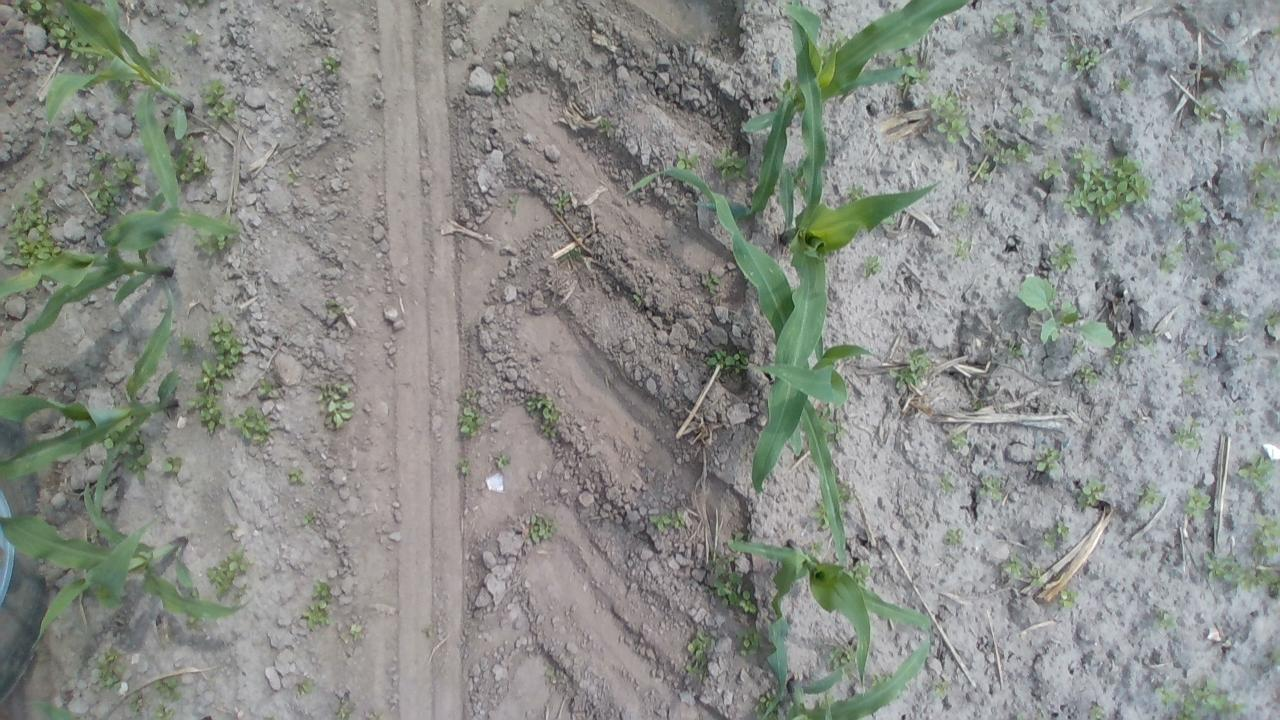Maize: (625, 167, 881, 565), (746, 15, 946, 498), (696, 0, 971, 226), (0, 189, 237, 392), (0, 480, 259, 655), (0, 276, 179, 526), (728, 533, 936, 708), (28, 0, 196, 208), (764, 627, 936, 720), (29, 700, 83, 718)
Weeds: (1015, 274, 1116, 348), (1062, 147, 1154, 223), (2, 174, 65, 269), (198, 318, 244, 394), (87, 153, 141, 217), (1204, 552, 1280, 592), (1178, 677, 1246, 720), (98, 430, 149, 481), (206, 549, 250, 596), (928, 92, 968, 142), (712, 571, 756, 614), (174, 138, 213, 184), (317, 382, 355, 428), (1240, 454, 1280, 495), (892, 349, 934, 388), (524, 393, 560, 438), (202, 80, 238, 124), (680, 631, 714, 677), (232, 406, 272, 443), (302, 580, 332, 629), (982, 136, 1034, 164), (194, 390, 227, 434), (1251, 513, 1280, 561), (712, 146, 749, 182), (818, 406, 851, 446), (891, 52, 929, 86), (93, 649, 123, 692), (44, 17, 76, 55), (1172, 192, 1206, 227), (458, 390, 482, 436), (130, 696, 174, 720), (1170, 415, 1200, 450), (142, 48, 172, 82), (1252, 188, 1280, 224), (829, 644, 860, 676), (193, 231, 234, 255), (1204, 308, 1244, 332), (708, 350, 747, 374), (1065, 44, 1098, 72), (649, 508, 687, 532), (1077, 478, 1106, 509), (1182, 491, 1212, 520), (1048, 242, 1077, 272), (528, 514, 556, 545), (15, 0, 58, 20), (1248, 158, 1280, 184), (736, 624, 761, 656), (68, 110, 94, 140), (1212, 238, 1238, 268), (1044, 520, 1070, 550), (1039, 154, 1063, 184), (837, 480, 861, 510), (156, 676, 182, 703), (756, 691, 782, 718), (334, 699, 367, 720), (819, 33, 852, 54), (990, 12, 1016, 38), (1158, 246, 1182, 274), (1036, 446, 1060, 474), (1137, 484, 1165, 508), (979, 474, 1004, 500), (946, 428, 972, 453), (674, 149, 702, 172), (1224, 58, 1250, 82), (949, 197, 972, 224), (1194, 93, 1214, 124), (162, 454, 185, 480), (290, 88, 312, 114), (111, 82, 133, 108), (846, 180, 872, 202), (851, 559, 873, 584), (182, 33, 208, 54), (967, 395, 993, 415), (283, 164, 302, 191), (1154, 607, 1176, 630), (1110, 342, 1128, 370), (328, 292, 346, 320), (1002, 554, 1024, 576), (318, 52, 340, 74), (1086, 701, 1110, 720), (862, 255, 879, 281), (491, 70, 511, 92), (76, 54, 100, 72), (928, 680, 952, 698), (1044, 113, 1064, 134), (954, 237, 974, 258), (703, 272, 724, 292), (1030, 8, 1049, 30), (294, 678, 316, 697), (503, 192, 522, 214), (1028, 565, 1046, 588), (554, 190, 572, 212), (974, 163, 996, 181), (259, 378, 279, 397), (1058, 589, 1078, 608), (596, 116, 616, 135), (777, 80, 798, 98), (180, 334, 197, 356), (1114, 74, 1134, 92), (1155, 686, 1175, 704), (1014, 105, 1032, 125), (1078, 364, 1098, 382), (286, 469, 308, 485), (945, 528, 964, 546), (1224, 120, 1242, 139), (810, 507, 828, 525), (1266, 106, 1280, 128), (939, 474, 956, 491), (1264, 310, 1276, 334), (1179, 376, 1197, 392), (1006, 342, 1024, 358), (869, 675, 893, 687), (1138, 332, 1154, 348), (494, 453, 510, 469), (301, 511, 317, 527), (546, 668, 564, 682), (818, 693, 836, 707), (460, 456, 470, 481), (570, 246, 584, 262), (1267, 23, 1280, 40), (349, 622, 363, 637)
